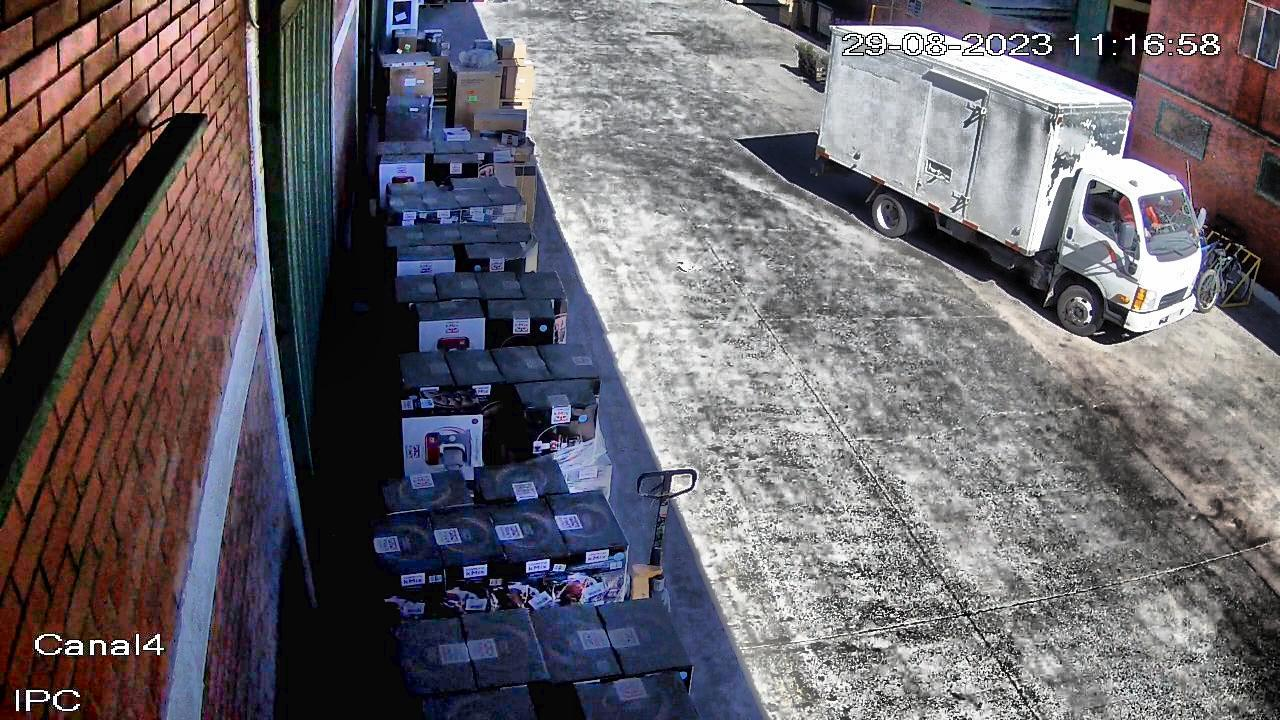persona: (1112, 183, 1163, 286)
